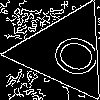O: (39, 26, 100, 82)
